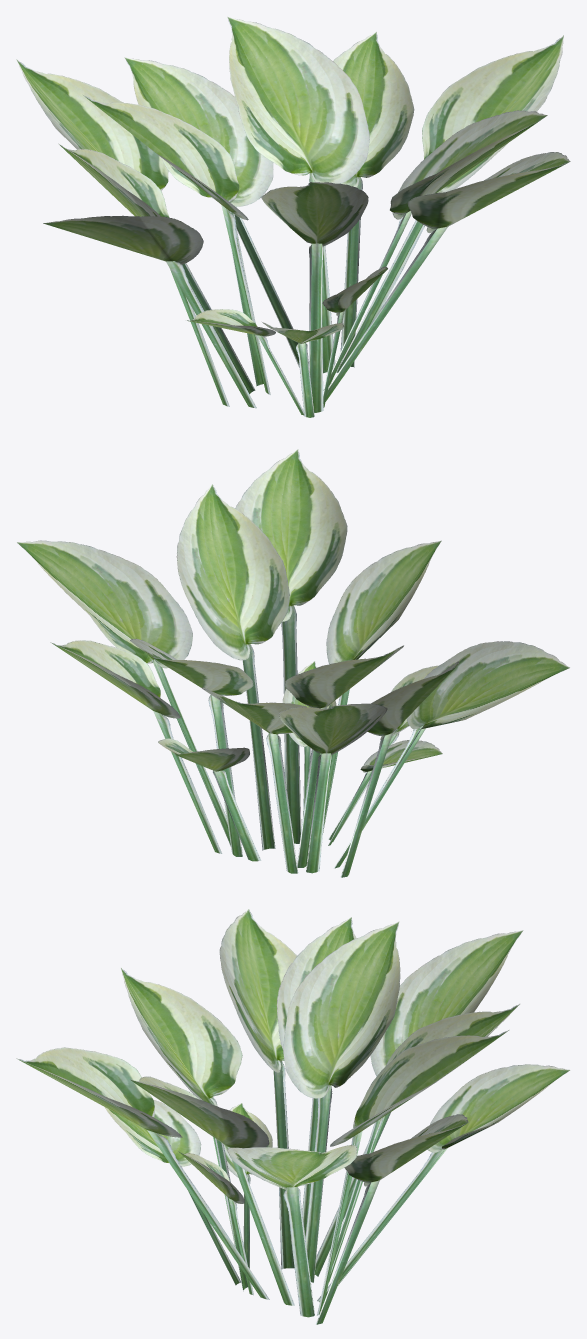
Rendered from plant_small_wg_02Y.fbx.
The picture shows the model from 3 angles, top to bottom: view 1: azimuth 30°, elevation 25°; view 2: azimuth 150°, elevation 25°; view 3: azimuth 270°, elevation 25°; orthographic projection. The views are drawn at different scales.
Visible parts, largest first — view 1: plant_small_wg_02Y; view 2: plant_small_wg_02Y; view 3: plant_small_wg_02Y.
Part boxes in pixels (<box>): plant_small_wg_02Y: <box>16,17,570,417</box>; plant_small_wg_02Y: <box>17,449,569,877</box>; plant_small_wg_02Y: <box>16,909,570,1324</box>.
Bounding box in the file's own units: 95.19 × 49.07 × 83.24.
